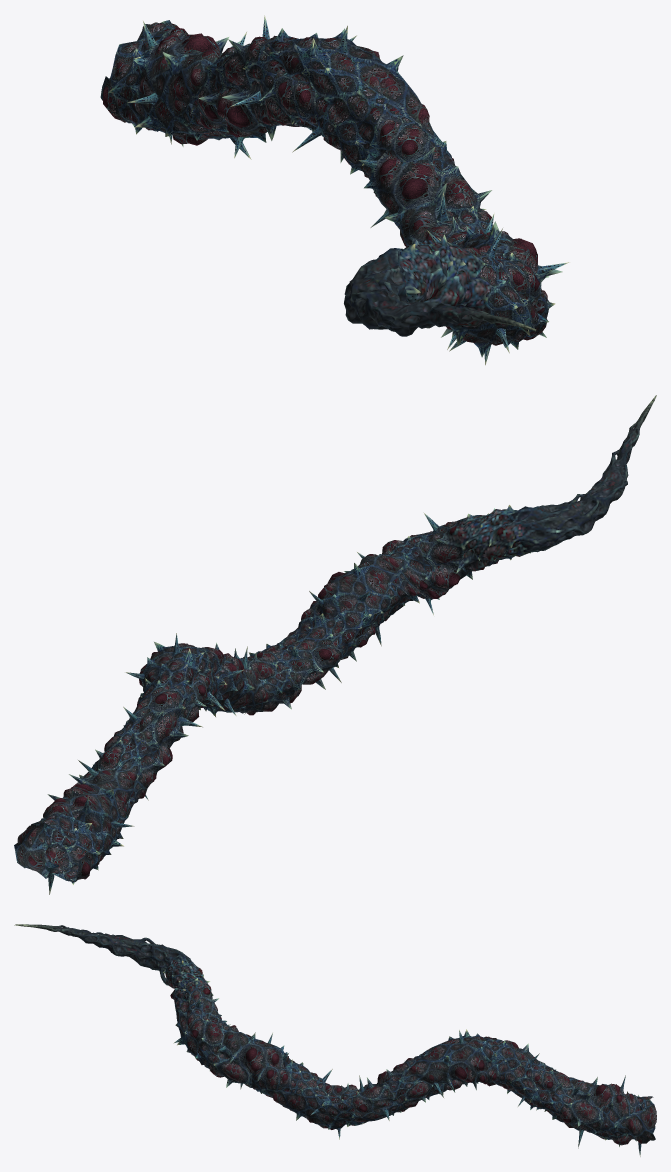
Rendered from backup.fbx.
3 views of the same model, one above another, from view 1: azimuth 30°, elevation 25°; view 2: azimuth 150°, elevation 25°; view 3: azimuth 270°, elevation 25° (orthographic). The views are drawn at different scales.
Visible parts, largest first — view 1: LODGroup_1_MainMesh_1_SubMesh_2, LODGroup_1_MainMesh_1_SubMesh_1, LODGroup_1_MainMesh_1_SubMesh_3; view 2: LODGroup_1_MainMesh_1_SubMesh_1, LODGroup_1_MainMesh_1_SubMesh_2, LODGroup_1_MainMesh_1_SubMesh_3; view 3: LODGroup_1_MainMesh_1_SubMesh_1, LODGroup_1_MainMesh_1_SubMesh_2, LODGroup_1_MainMesh_1_SubMesh_3.
Boxes of the visible parts, x1,y1,x2,y2 form: LODGroup_1_MainMesh_1_SubMesh_2: (100,28,555,357); LODGroup_1_MainMesh_1_SubMesh_1: (127,15,569,365); LODGroup_1_MainMesh_1_SubMesh_3: (344,234,536,336); LODGroup_1_MainMesh_1_SubMesh_1: (14,512,467,894); LODGroup_1_MainMesh_1_SubMesh_2: (37,520,472,884); LODGroup_1_MainMesh_1_SubMesh_3: (442,395,656,574); LODGroup_1_MainMesh_1_SubMesh_1: (173,996,656,1156); LODGroup_1_MainMesh_1_SubMesh_2: (175,988,639,1146); LODGroup_1_MainMesh_1_SubMesh_3: (14,924,213,1009).
Size of the model in its own units: 1136 by 966 by 3328.
